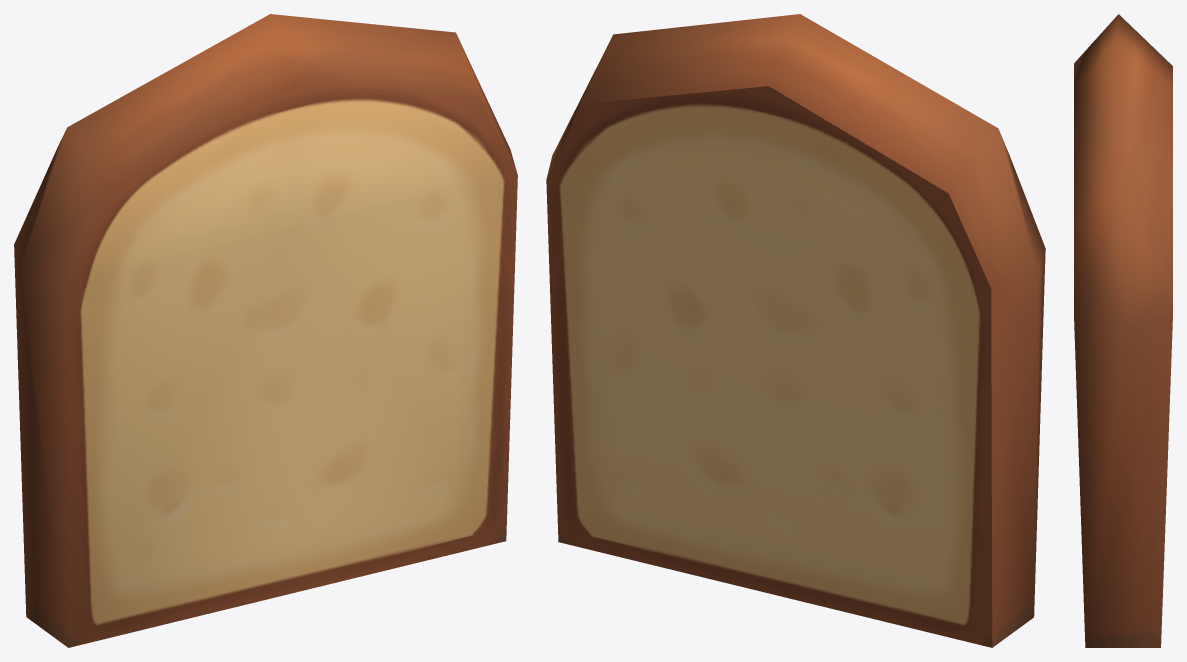
The model's file is slice of  bread.FBX.
3 views of the same model, side by side, from view 1: azimuth 30°, elevation 25°; view 2: azimuth 150°, elevation 25°; view 3: azimuth 270°, elevation 25° (orthographic). The views are drawn at different scales.
Visible parts, largest first — view 1: slice of bread; view 2: slice of bread; view 3: slice of bread.
Part boxes in pixels (x1,y1,x2,y2): slice of bread: (14, 14, 517, 647); slice of bread: (546, 14, 1045, 647); slice of bread: (1074, 14, 1172, 647).
Size of the model in its own units: 4.36 by 4.83 by 0.8498.
